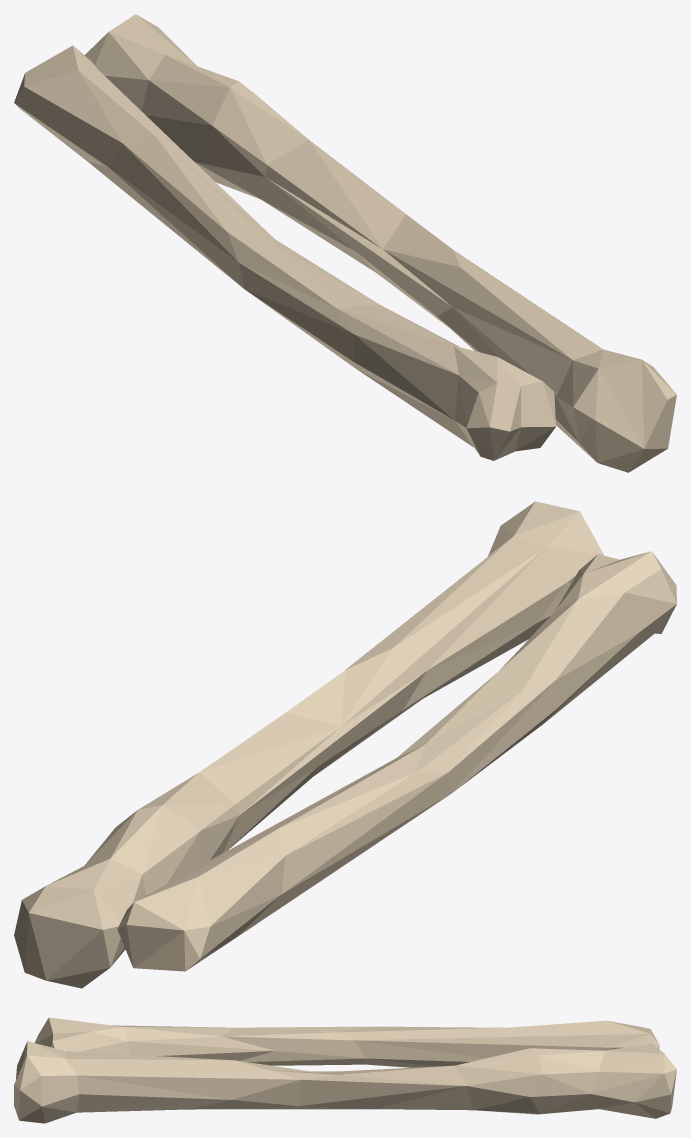
Rendered from bone_3.fbx.
The picture shows the model from 3 angles, top to bottom: view 1: azimuth 30°, elevation 25°; view 2: azimuth 150°, elevation 25°; view 3: azimuth 270°, elevation 25°; orthographic projection. The views are drawn at different scales.
Visible parts, largest first — view 1: bone_3; view 2: bone_3; view 3: bone_3.
Part boxes in pixels (<box>): bone_3: <box>14,14,676,472</box>; bone_3: <box>14,501,676,988</box>; bone_3: <box>14,1017,676,1123</box>.
Size of the model in its own units: 0.1052 by 0.0572 by 0.4799.
